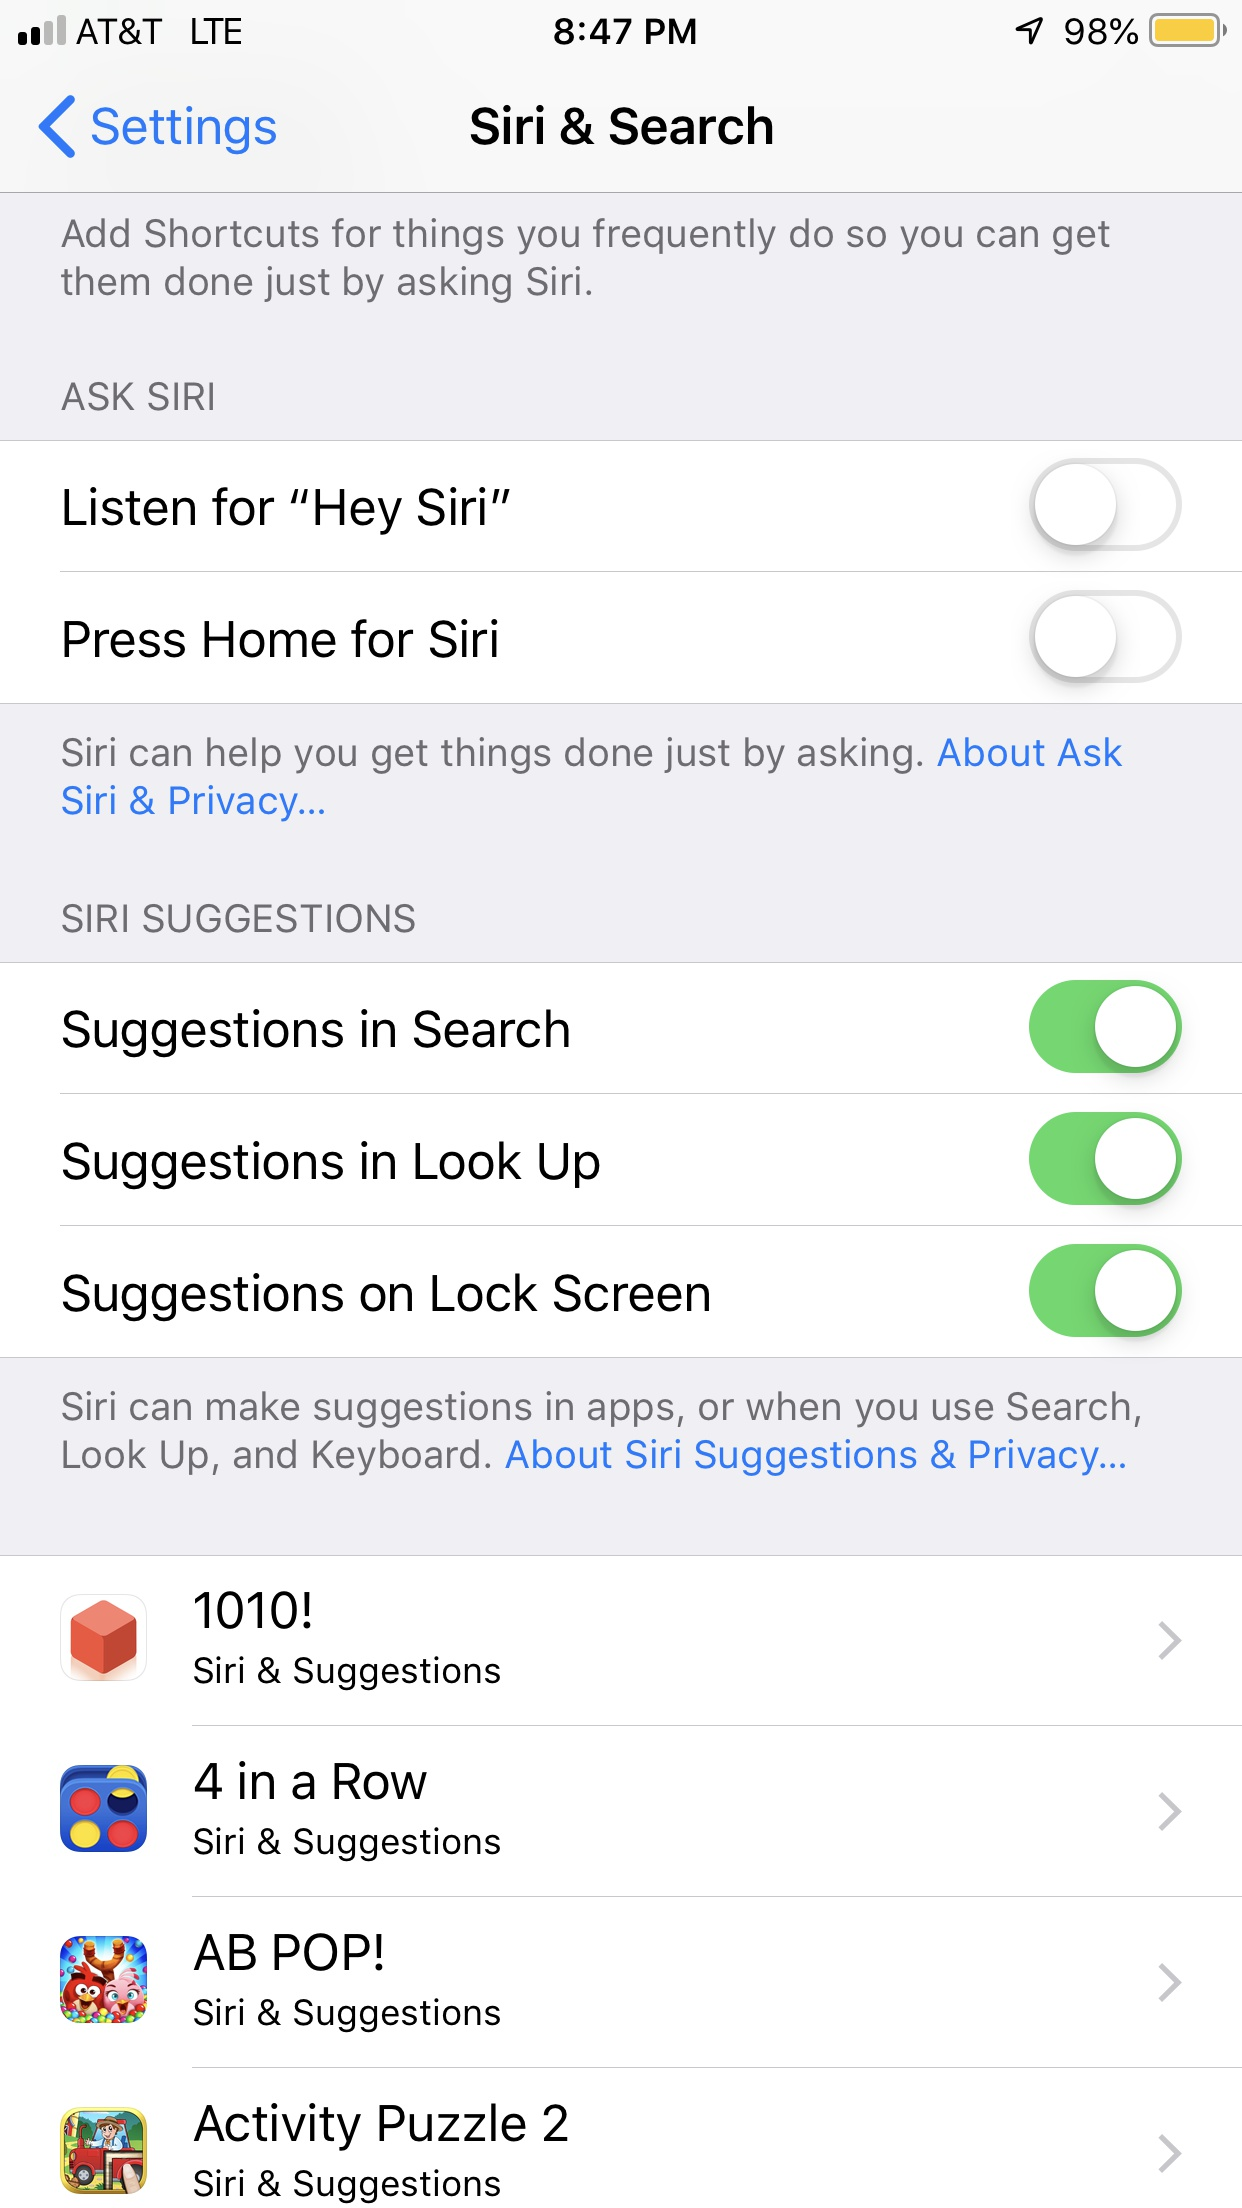Icon: (39, 96, 77, 159), (1157, 1962, 1183, 2003), (1159, 2134, 1183, 2175), (1159, 1621, 1183, 1661), (1159, 1792, 1183, 1832)
Image: (61, 1764, 149, 1853), (61, 1594, 149, 1682), (61, 1937, 149, 2025), (61, 2106, 149, 2194)
Switch: (1030, 458, 1183, 554), (1030, 590, 1183, 685), (1028, 1112, 1183, 1206), (1030, 980, 1183, 1074), (1030, 1244, 1183, 1338)
Text: (62, 735, 1124, 823), (62, 1391, 1140, 1477), (61, 218, 1110, 303), (64, 1272, 710, 1322), (64, 1140, 601, 1190), (64, 1008, 570, 1059), (64, 487, 511, 537), (194, 2102, 569, 2152), (64, 619, 499, 660), (472, 105, 773, 147), (62, 902, 416, 934), (193, 1997, 500, 2034), (194, 1826, 502, 1862), (194, 1654, 500, 1691), (194, 2169, 502, 2203), (196, 1761, 429, 1802), (93, 106, 278, 156), (194, 1934, 384, 1971), (62, 381, 215, 412), (196, 1589, 312, 1630)
UpperTaskBar: (2, 2, 1242, 49)
